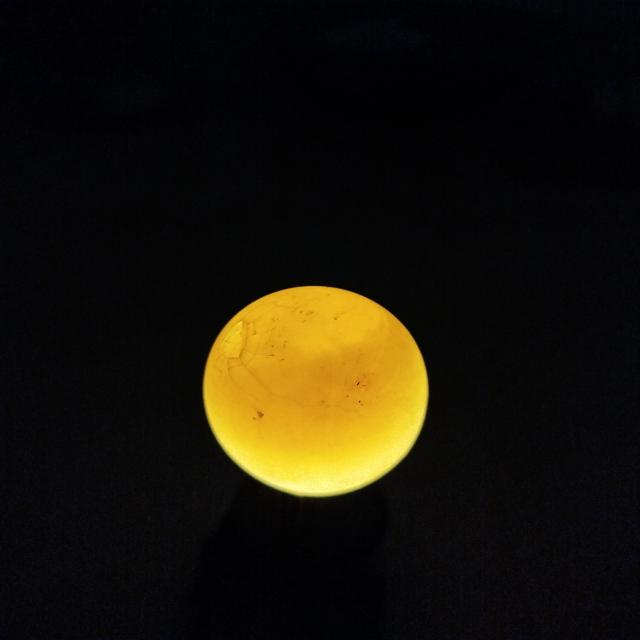Rachadura: (217, 321, 262, 368)
